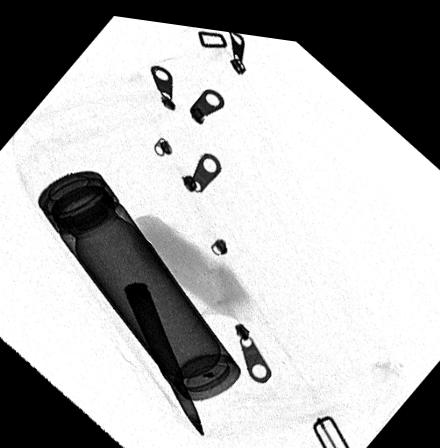Bullet: (121, 278, 204, 434)
